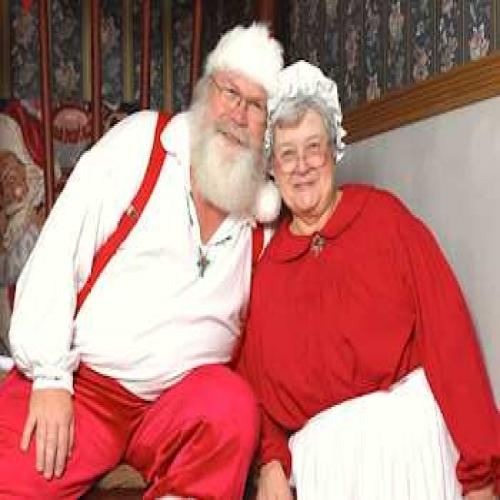Santa: (0, 21, 283, 500)
